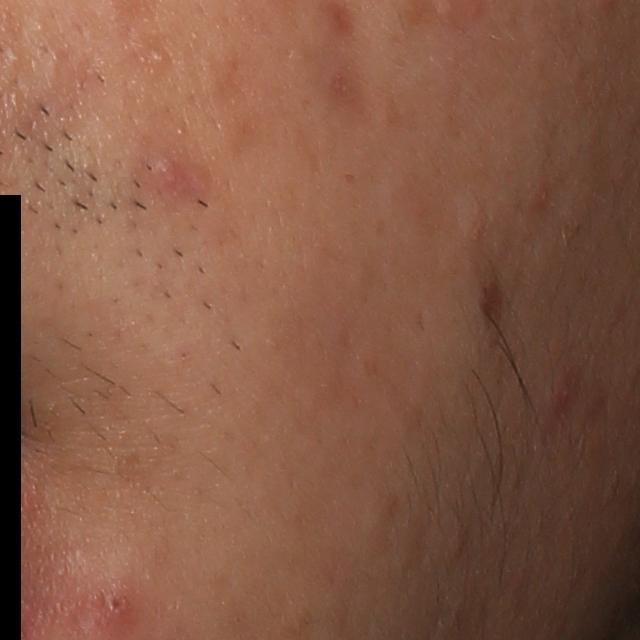comedo: (148, 46, 173, 66)
papule: (152, 153, 197, 200), (90, 587, 133, 632), (551, 361, 581, 416)
